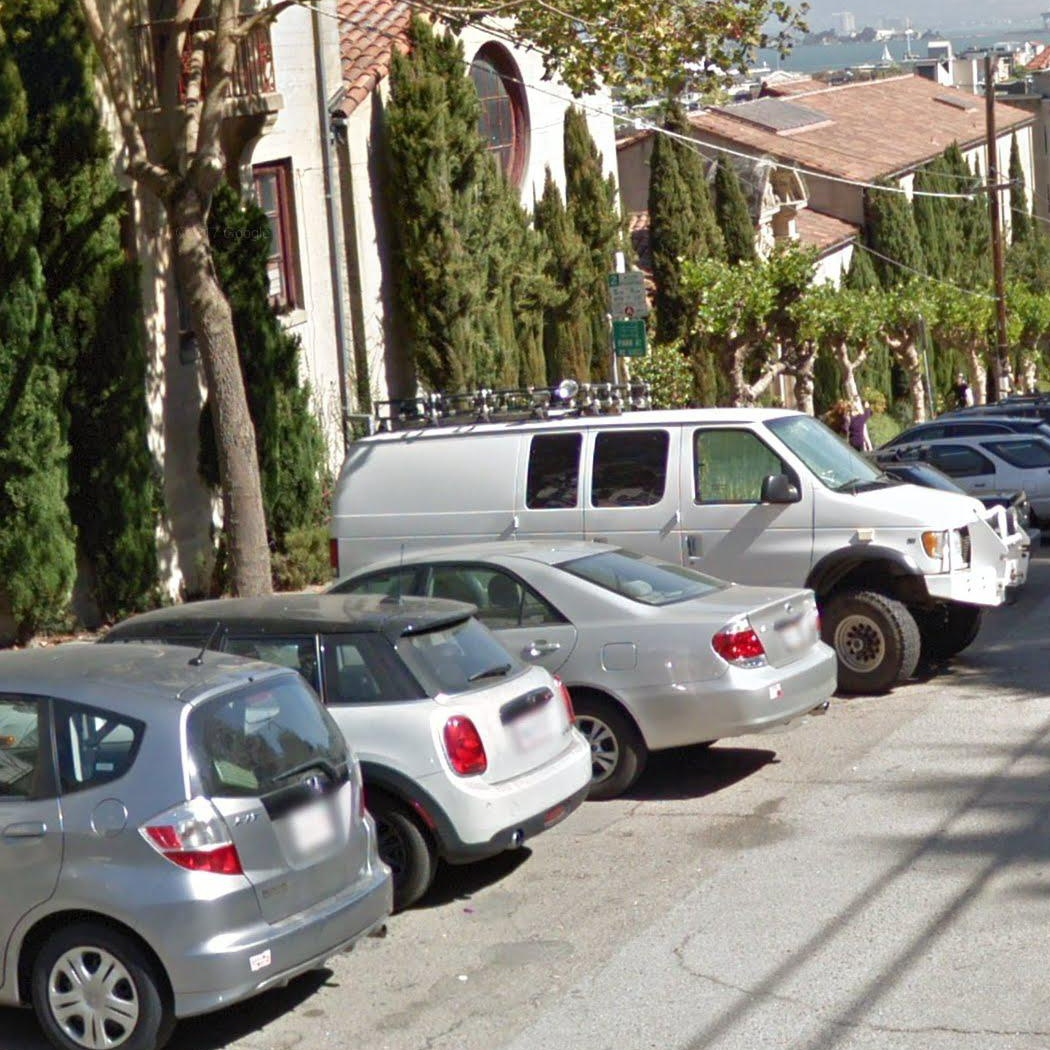2 Hour Parking: (607, 270, 650, 319)
